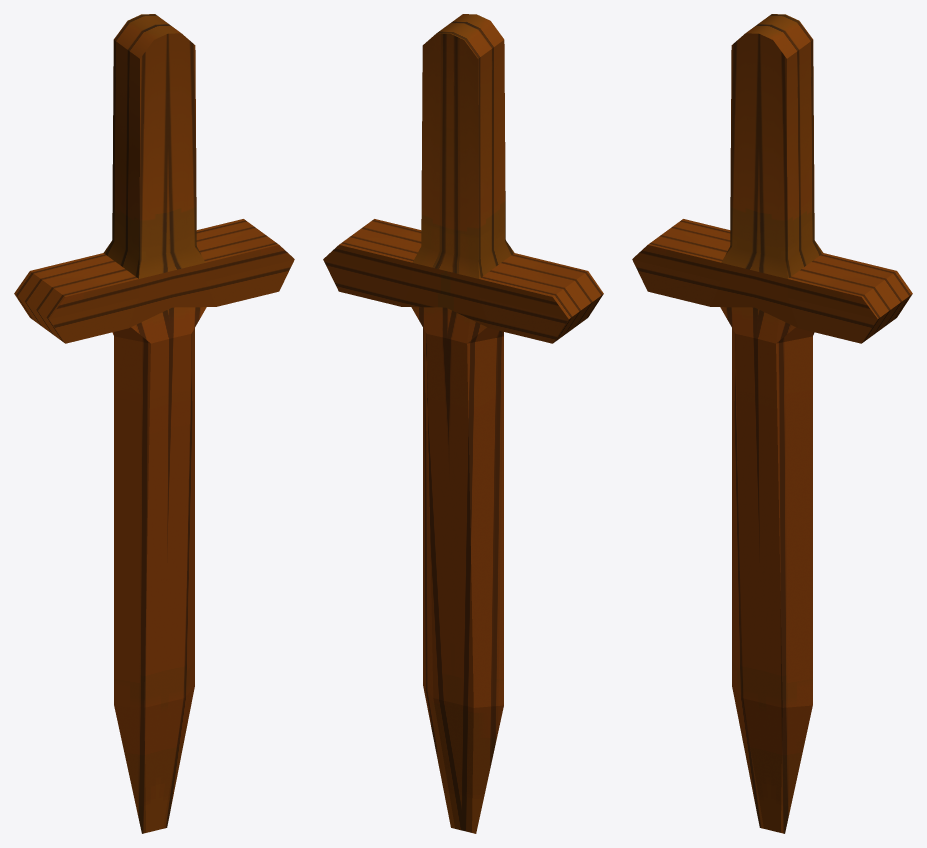
File: Houten Zwaard.FBX
The picture shows the model from 3 angles, left to right: view 1: azimuth 30°, elevation 25°; view 2: azimuth 150°, elevation 25°; view 3: azimuth 330°, elevation 25°; orthographic projection.
Visible parts, largest first — view 1: 2.Houten zwaard model; view 2: 2.Houten zwaard model; view 3: 2.Houten zwaard model.
Part boxes in pixels (bbox=[...]): 2.Houten zwaard model: bbox=[14, 14, 294, 833]; 2.Houten zwaard model: bbox=[323, 14, 603, 833]; 2.Houten zwaard model: bbox=[632, 14, 912, 833].
Bounding box in the file's own units: 72.61 × 228 × 18.21.
Materials: 1 (1 with a texture image).
